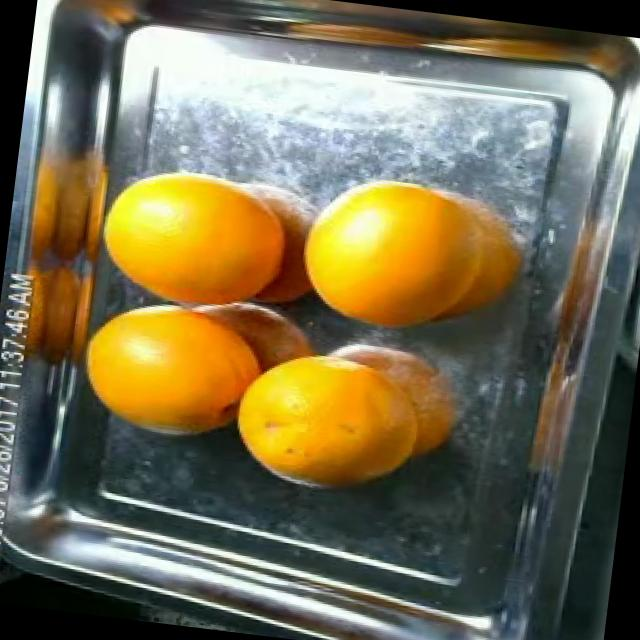Fruit: (278, 152, 512, 357), (206, 322, 442, 516), (85, 144, 298, 322), (66, 295, 280, 462), (20, 130, 100, 288)
